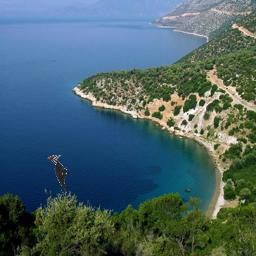Woodpecker: (47, 155, 67, 195)
